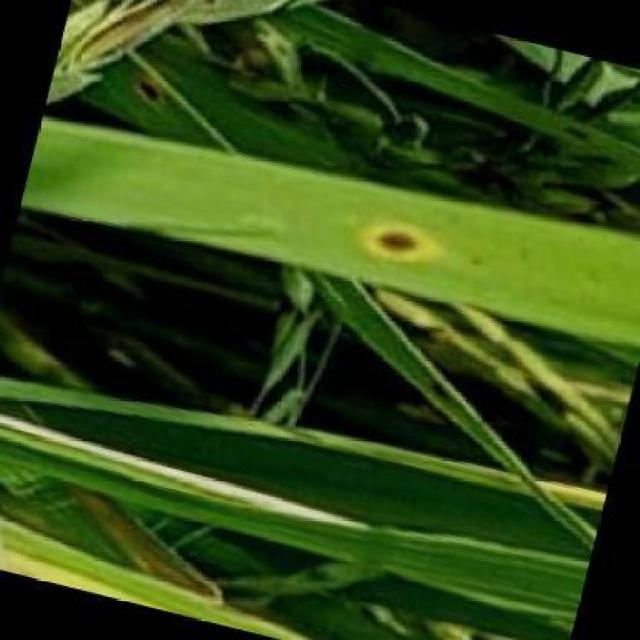Leaf_Blast: (356, 208, 458, 282)
